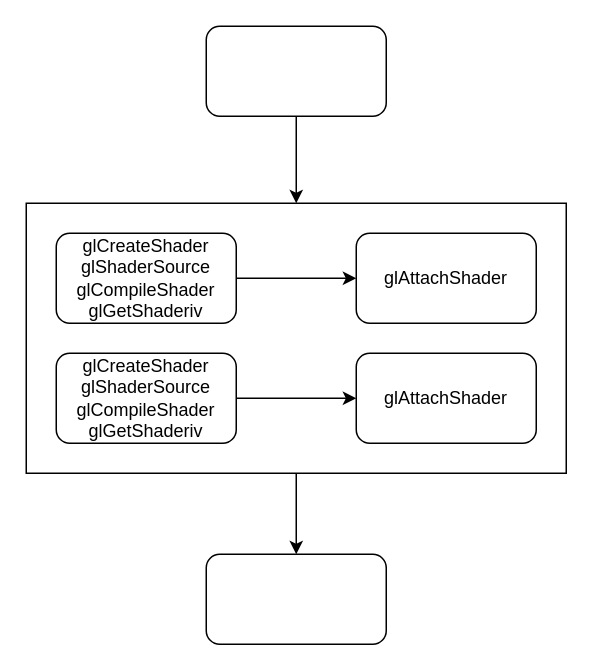
Image size: 593x671. Some labels were removed from this diagram. Here are the shapes that lost their labels. From the top down, the centre of each, then its label:
At (x=295, y=70): "glCreateProgram".
At (x=295, y=598): "glLinkProgram glGetProgramiv glGetAttribLocation glGetUniformLocation".
